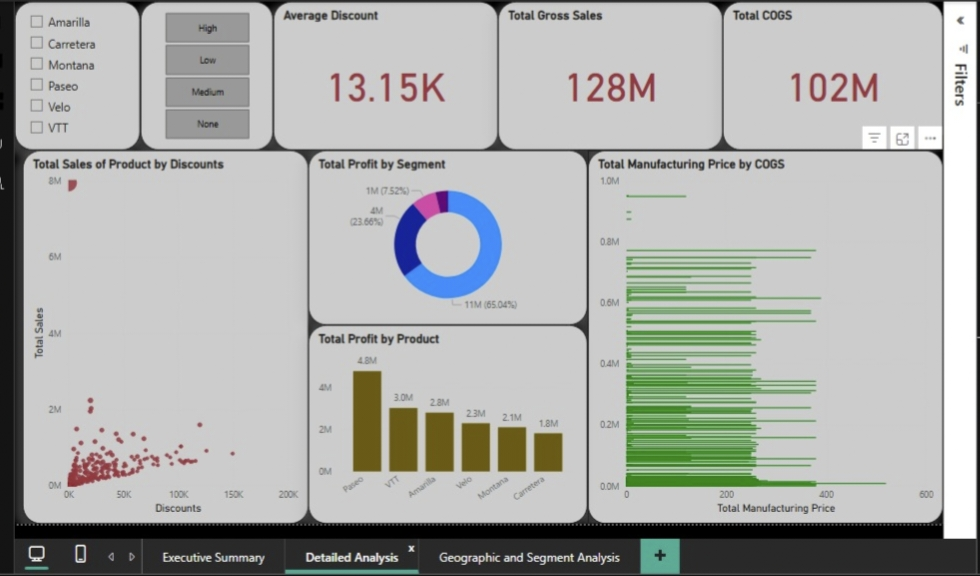

The page's visual inventory and layout, read from the dashboard file:
{"tool":"powerbi","page":{"name":"Detailed Analysis","canvas":[1280,720],"ordinal":1},"visuals":[{"type":"card","title":"Average Discount ","fields":{"Values":["financials.Average Discount"]},"box":[356.5,0,309.7,205.1],"z":0},{"type":"card","title":"Total Gross Sales ","fields":{"Values":["financials.Gross Sales Total"]},"box":[666.2,0,309.7,205.1],"z":1000},{"type":"card","title":"Total COGS ","fields":{"Values":["financials.COGS Total"]},"box":[975.8,0,304.2,205.1],"z":2000},{"type":"slicer","fields":{"Values":["financials.Discount Band"]},"box":[173.4,0,183.1,205.1],"z":3000},{"type":"slicer","fields":{"Values":["financials.Product"]},"box":[0,0,173.4,205.1],"z":4000},{"type":"scatterChart","title":"Total Sales of Product by Discounts","fields":{"Size":["CountNonNull(financials.Product)"],"X":["financials.Discounts"],"Y":["financials.Total Sales"]},"box":[11,205.1,393.6,514.8],"z":5000},{"type":"clusteredBarChart","title":"Total Manufacturing Price by COGS","fields":{"Category":["financials.COGS"],"Y":["Sum(financials.Manufacturing Price)"]},"box":[790,205.1,490,514.8],"z":6000},{"type":"donutChart","title":"Total Profit by Segment","fields":{"Category":["financials.Segment"],"Y":["financials.Total Profit"]},"box":[404.6,205.1,385.4,240.9],"z":7000},{"type":"clusteredColumnChart","title":"Total Profit by Product","fields":{"Category":["financials.Product"],"Y":["financials.Total Profit"]},"box":[404.6,445.9,385.4,273.9],"z":8000}]}

Visuals, with their boxes in screenshot pixels (x1, y1, x2, y2):
"Average Discount " card: detection(270, 0, 495, 147)
"Total Gross Sales " card: detection(495, 0, 721, 147)
"Total COGS " card: detection(721, 0, 942, 147)
slicer - financials.Discount Band: detection(136, 0, 270, 147)
slicer - financials.Product: detection(10, 0, 136, 147)
"Total Sales of Product by Discounts" scatterChart: detection(18, 147, 305, 522)
"Total Manufacturing Price by COGS" clusteredBarChart: detection(586, 147, 942, 522)
"Total Profit by Segment" donutChart: detection(305, 147, 586, 322)
"Total Profit by Product" clusteredColumnChart: detection(305, 322, 586, 522)
